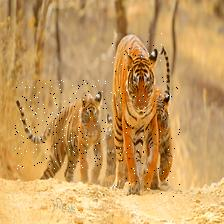tiger: (109, 34, 163, 187), (14, 81, 106, 170), (142, 84, 179, 199)
